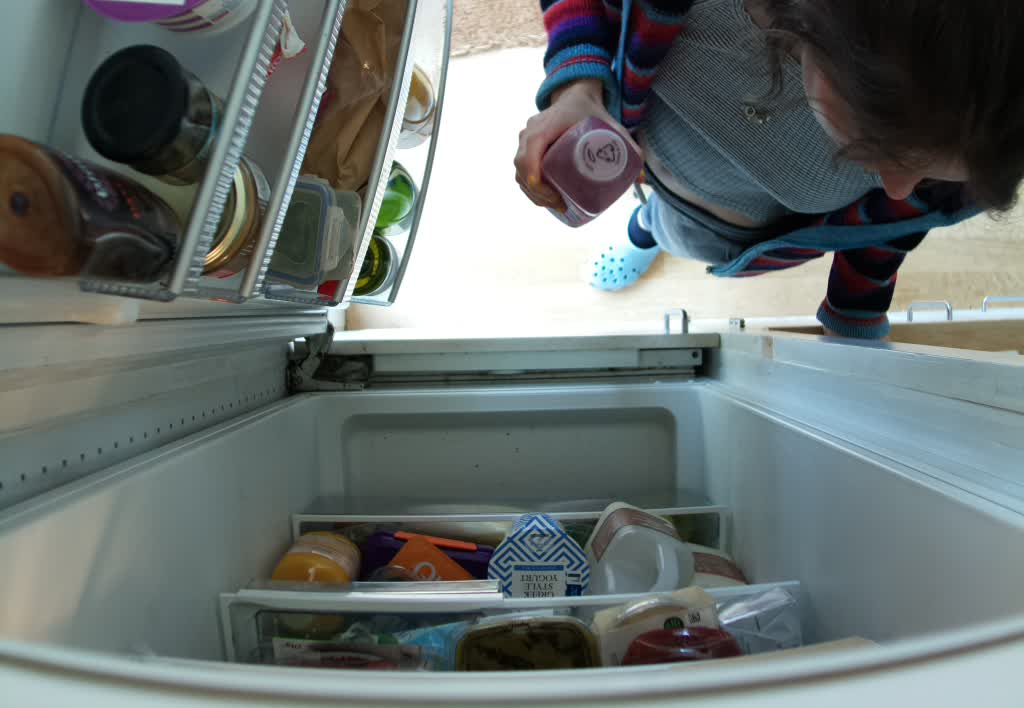juice: (531, 110, 642, 233)
